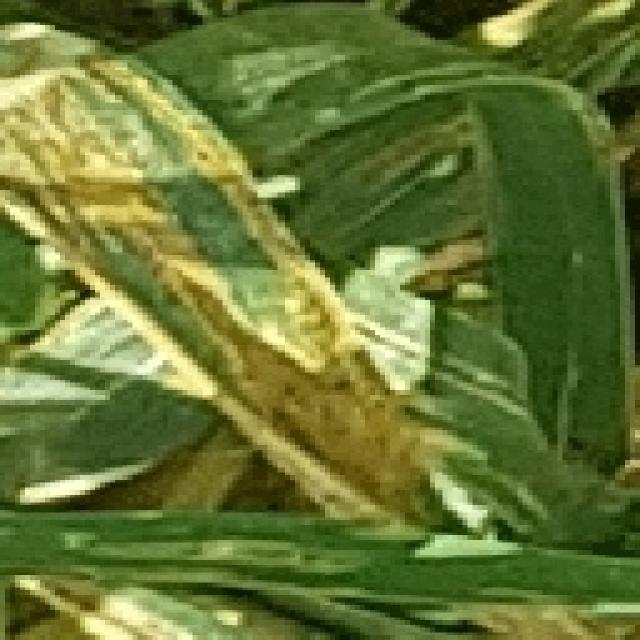Yellow Rust: (2, 25, 450, 525)
